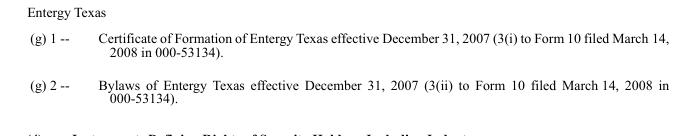table: (29, 29, 668, 105)
table column: (83, 29, 668, 105), (29, 29, 83, 105)
table row: (29, 29, 668, 67), (29, 67, 668, 105)
